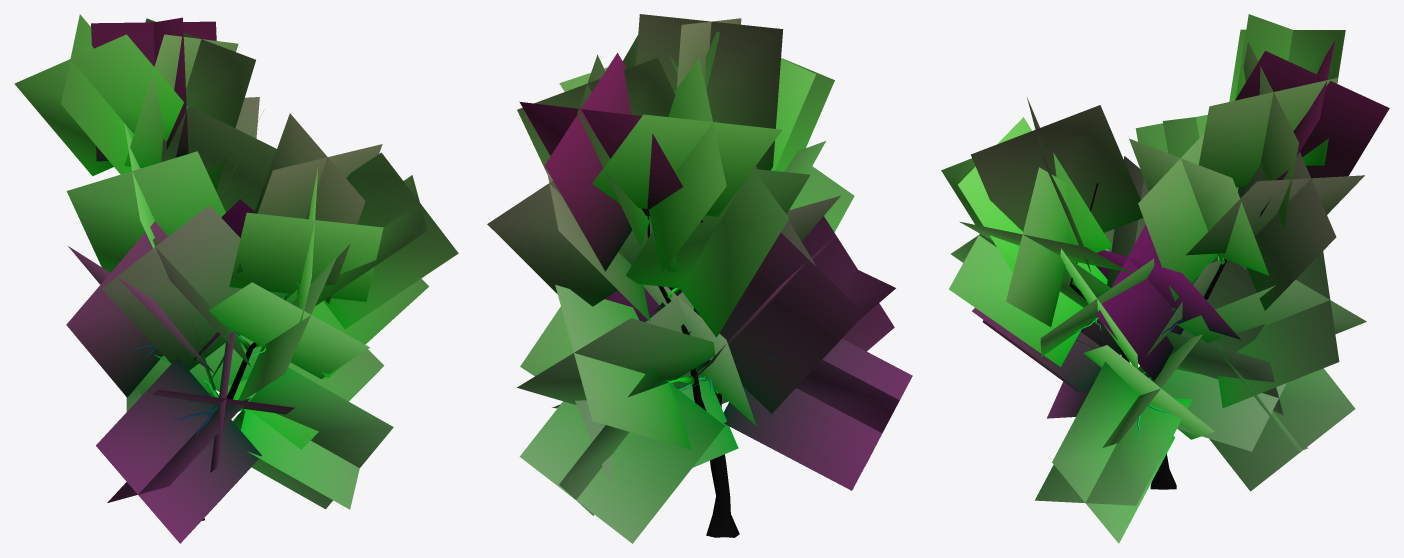
The model's file is M_P1_Tree_16.fbx.
3 renders of one model, left to right at view 1: azimuth 30°, elevation 25°; view 2: azimuth 150°, elevation 25°; view 3: azimuth 270°, elevation 25°, orthographic. The views are drawn at different scales.
Visible parts, largest first — view 1: M_Tree_1_16; view 2: M_Tree_1_16; view 3: M_Tree_1_16.
Boxes of the visible parts, x1,y1,x2,y2 form: M_Tree_1_16: (14, 14, 458, 543); M_Tree_1_16: (487, 14, 912, 543); M_Tree_1_16: (941, 14, 1389, 543).
Size of the model in its own units: 725 by 1011 by 886.
